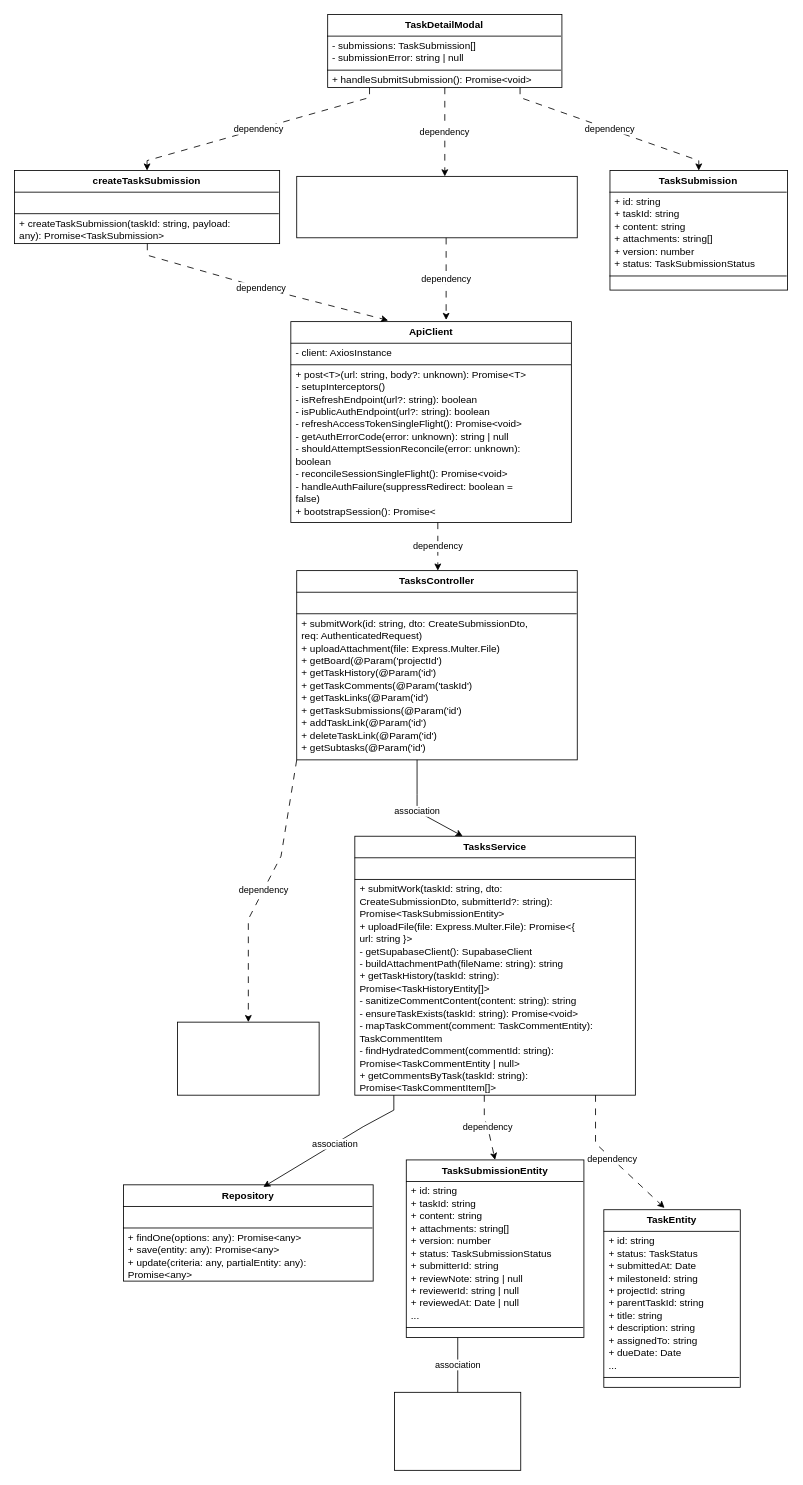
Some shapes in this 803 by 1485 pixel diagram are drawn without their labels. The shapes that lost their labels are listed below. From the top down, each one's centre as x and y in pixels, then its label:
point 436,207: uploadImageToServer + uploadImageToServer(file: File): Promise<string>
point 248,1058: CreateSubmissionDto + content: string + attachments: string[]
point 457,1430: TaskSubmissionStatus PENDING APPROVED REJECTED REQUEST_CHANGES
